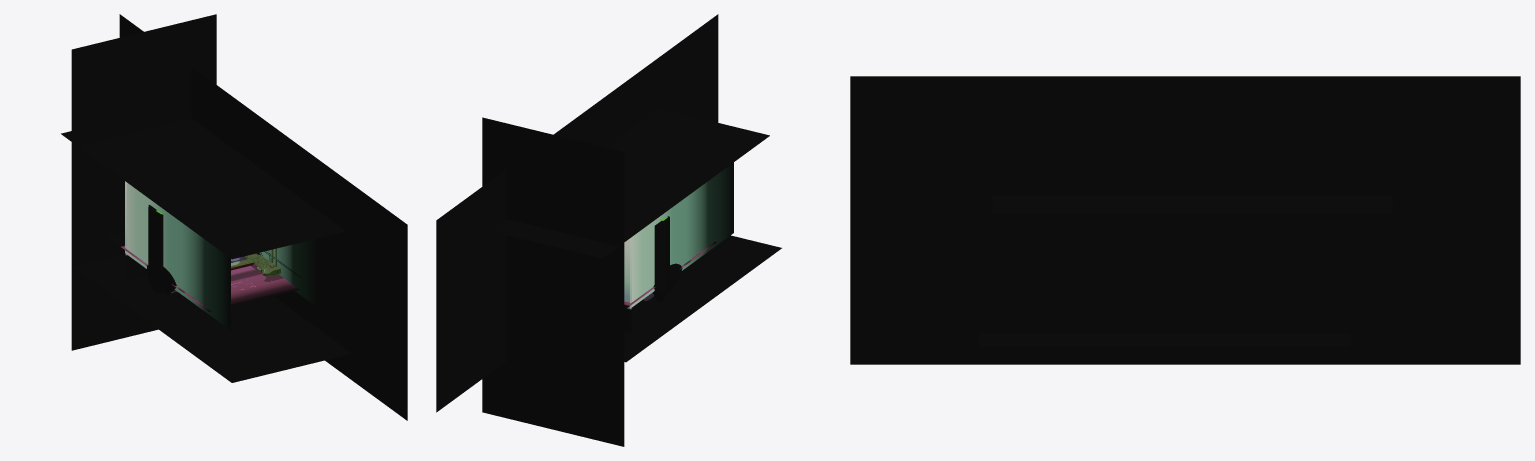
Rendered from eva-01.glb.
3 views of the same model, side by side, from view 1: azimuth 30°, elevation 25°; view 2: azimuth 150°, elevation 25°; view 3: azimuth 270°, elevation 25° (orthographic). The views are drawn at different scales.
Visible parts, largest first — view 1: Body_0000; view 2: Body_0000; view 3: Body_0000.
Part boxes in pixels (x1,y1,x2,y2): Body_0000: (61,14,407,420); Body_0000: (436,14,781,446); Body_0000: (850,76,1520,364).
Bounding box in the file's own units: 45.18 × 86.07 × 149.
